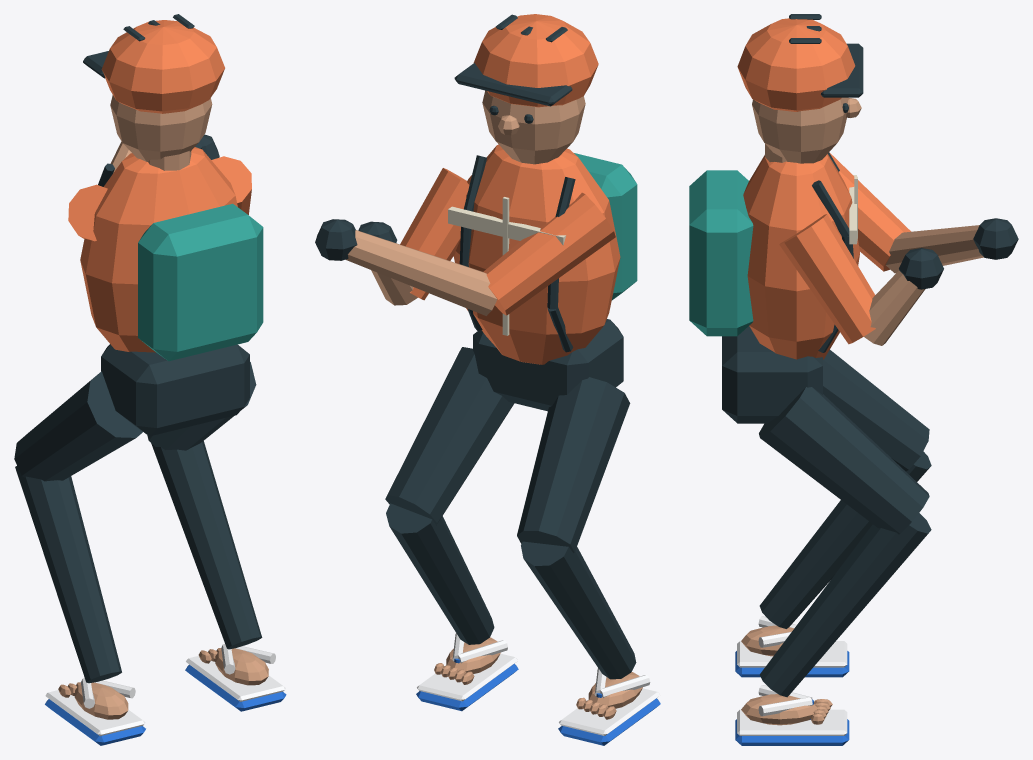
The model's file is gunner.glb.
The picture shows the model from 3 angles, left to right: view 1: azimuth 30°, elevation 25°; view 2: azimuth 150°, elevation 25°; view 3: azimuth 270°, elevation 25°; orthographic projection.
Parts seen in each view (by area): view 1: gunner.Torso_Teal, gunner.Torso_Orange, gunner.Root_Dark, gunner.Knee_-1_Dark, gunner.Knee_1_Dark, gunner.Head_Orange, gunner.Hip_-1_Dark, gunner.Head_Skin, gunner.Ankle_-1_SandalWhite, gunner.Ankle_1_SandalWhite, gunner.Ankle_-1_Skin, gunner.Ankle_1_Skin (+6 smaller); view 2: gunner.Torso_Orange, gunner.Hip_-1_Dark, gunner.Hip_1_Dark, gunner.Head_Orange, gunner.Shoulder_L_Orange, gunner.Knee_-1_Dark, gunner.Root_Dark, gunner.Knee_1_Dark, gunner.Elbow_-1_Skin, gunner.Head_Skin, gunner.Torso_Teal, gunner.Shoulder_R_Orange (+11 smaller); view 3: gunner.Torso_Orange, gunner.Hip_1_Dark, gunner.Torso_Teal, gunner.Knee_1_Dark, gunner.Head_Orange, gunner.Root_Dark, gunner.Shoulder_R_Orange, gunner.Knee_-1_Dark, gunner.Hip_-1_Dark, gunner.Head_Skin, gunner.Shoulder_L_Orange, gunner.Ankle_1_SandalWhite (+11 smaller).
Part boxes in pixels (left/top/right/bottom): gunner.Torso_Teal: left=138, top=203, right=263, bottom=361; gunner.Torso_Orange: left=80, top=147, right=237, bottom=352; gunner.Root_Dark: left=101, top=344, right=249, bottom=436; gunner.Knee_-1_Dark: left=15, top=466, right=121, bottom=683; gunner.Knee_1_Dark: left=151, top=441, right=262, bottom=649; gunner.Head_Orange: left=101, top=20, right=224, bottom=113; gunner.Hip_-1_Dark: left=14, top=371, right=142, bottom=481; gunner.Head_Skin: left=110, top=95, right=212, bottom=170; gunner.Ankle_-1_SandalWhite: left=45, top=678, right=145, bottom=736; gunner.Ankle_1_SandalWhite: left=186, top=643, right=285, bottom=701; gunner.Ankle_-1_Skin: left=58, top=682, right=128, bottom=719; gunner.Ankle_1_Skin: left=198, top=648, right=268, bottom=685; gunner.Torso_Orange: left=453, top=144, right=620, bottom=364; gunner.Hip_-1_Dark: left=517, top=377, right=630, bottom=553; gunner.Hip_1_Dark: left=385, top=347, right=514, bottom=525; gunner.Head_Orange: left=473, top=14, right=598, bottom=107; gunner.Shoulder_L_Orange: left=483, top=192, right=615, bottom=315; gunner.Knee_-1_Dark: left=521, top=541, right=636, bottom=679; gunner.Root_Dark: left=473, top=319, right=623, bottom=411; gunner.Knee_1_Dark: left=386, top=503, right=494, bottom=644; gunner.Elbow_-1_Skin: left=346, top=230, right=497, bottom=315; gunner.Head_Skin: left=482, top=90, right=585, bottom=164; gunner.Torso_Teal: left=574, top=153, right=637, bottom=300; gunner.Shoulder_R_Orange: left=400, top=168, right=469, bottom=300; gunner.Torso_Orange: left=743, top=154, right=859, bottom=359; gunner.Hip_1_Dark: left=759, top=387, right=929, bottom=534; gunner.Torso_Teal: left=689, top=170, right=753, bottom=336; gunner.Knee_1_Dark: left=759, top=513, right=931, bottom=697; gunner.Head_Orange: left=737, top=18, right=855, bottom=111; gunner.Root_Dark: left=722, top=326, right=822, bottom=423; gunner.Shoulder_R_Orange: left=779, top=214, right=875, bottom=344; gunner.Knee_-1_Dark: left=759, top=451, right=931, bottom=628; gunner.Hip_-1_Dark: left=823, top=350, right=929, bottom=471; gunner.Head_Skin: left=752, top=97, right=861, bottom=163; gunner.Shoulder_L_Orange: left=829, top=152, right=910, bottom=271; gunner.Ankle_1_SandalWhite: left=737, top=685, right=847, bottom=735.
Bounding box in the file's own units: 0.5606 × 1.71 × 0.752.
